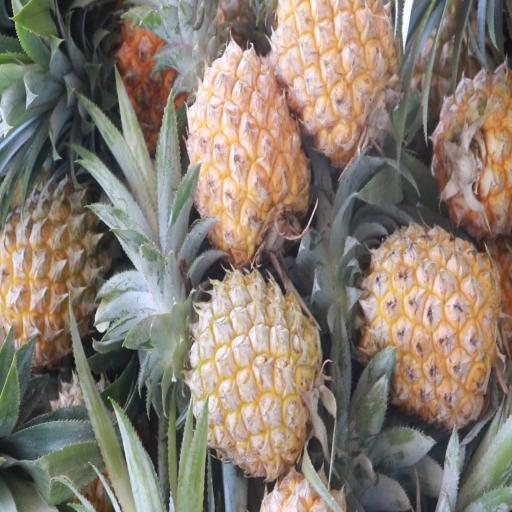------------------------------: (1, 195, 104, 355)
Pineapple - v8 v1: (368, 223, 502, 425), (188, 49, 315, 259), (189, 273, 321, 474), (273, 0, 396, 153)
